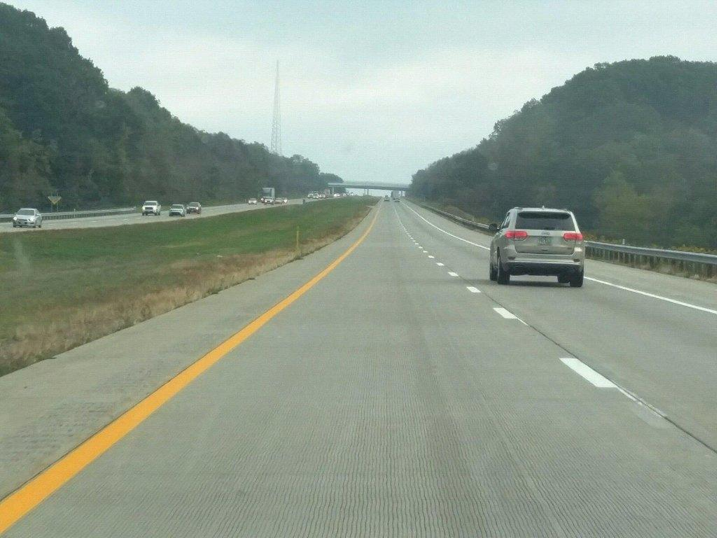car: (489, 203, 586, 287), (11, 206, 43, 229), (141, 198, 162, 216), (185, 201, 202, 216), (168, 203, 185, 218), (247, 196, 258, 206), (264, 196, 274, 204), (261, 193, 269, 203), (274, 196, 283, 204), (280, 196, 288, 204)
